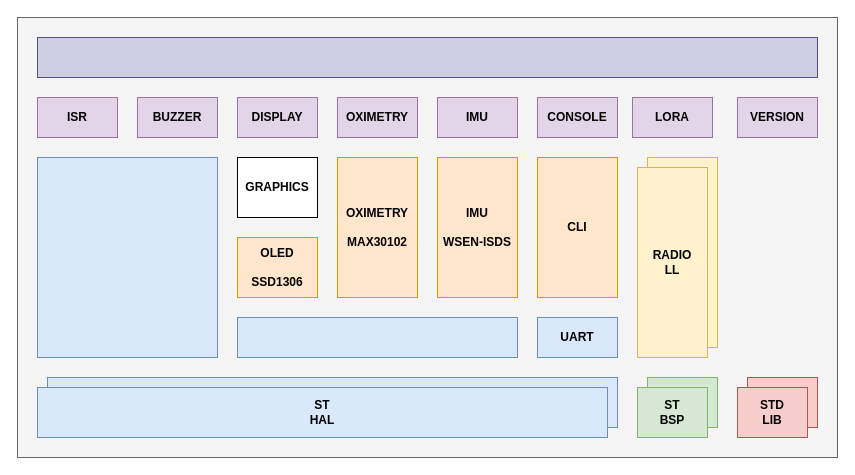
Image size: 855x475. Some labels were removed from this diagram. Here are the shapes that lost their labels. From the top down, the centre of each, then its label:
At (427,57): "APP".
At (127,257): "TIM / PWM".
At (377,337): "I2C".
